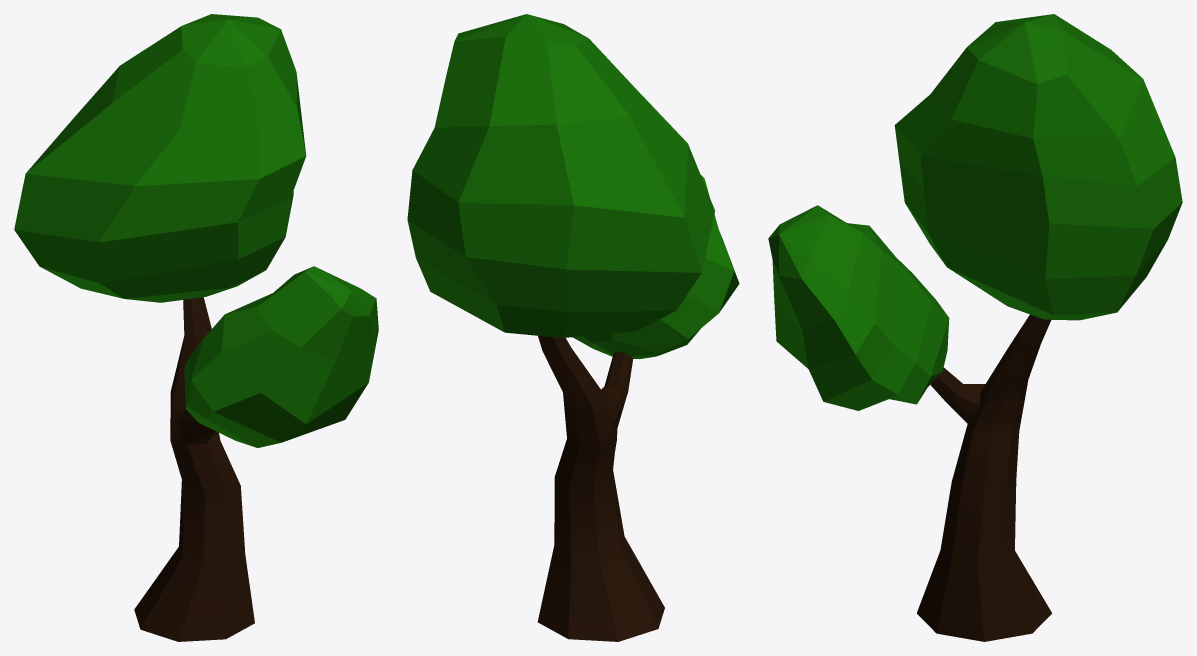
The model's file is Tree02.fbx.
3 renders of one model, left to right at view 1: azimuth 30°, elevation 25°; view 2: azimuth 150°, elevation 25°; view 3: azimuth 270°, elevation 25°, orthographic. The views are drawn at different scales.
Parts seen in each view (by area): view 1: Body1, Body2, Trunk; view 2: Body1, Trunk, Body2; view 3: Body1, Body2, Trunk.
Boxes of the visible parts, left/top/right/bottom form: Body1: left=14, top=14, right=306, bottom=302; Body2: left=184, top=266, right=378, bottom=447; Trunk: left=134, top=297, right=254, bottom=641; Body1: left=407, top=14, right=714, bottom=337; Trunk: left=537, top=335, right=664, bottom=641; Body2: left=573, top=175, right=739, bottom=359; Body1: left=894, top=14, right=1182, bottom=320; Body2: left=768, top=205, right=949, bottom=410; Trunk: left=917, top=314, right=1051, bottom=641.
Size of the model in its own units: 10.28 by 21.07 by 12.79.
